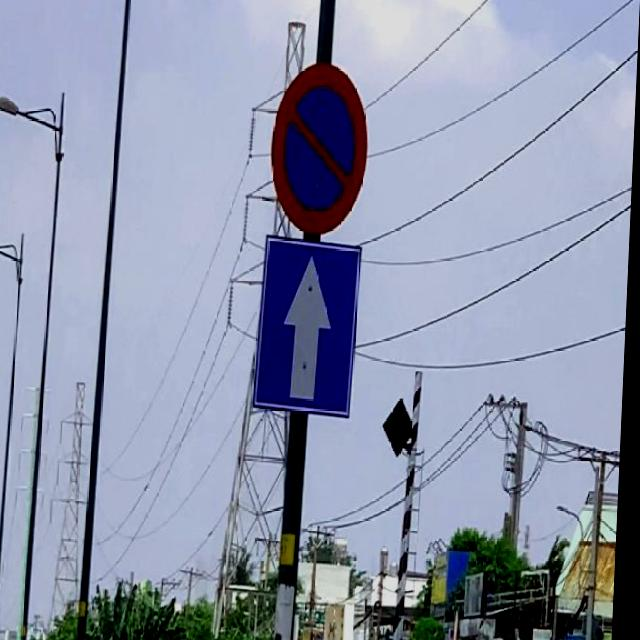Cam do xe: (267, 60, 373, 236)
Duong mot chieu: (255, 235, 361, 419)
